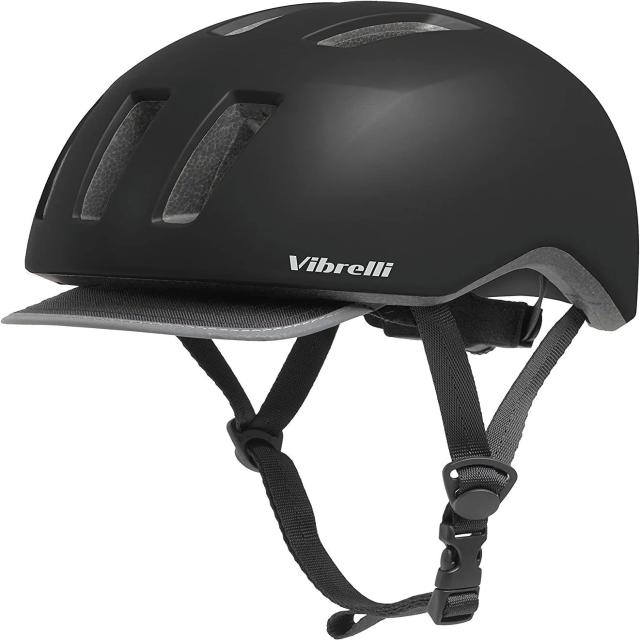Helmet: (21, 1, 640, 332)
